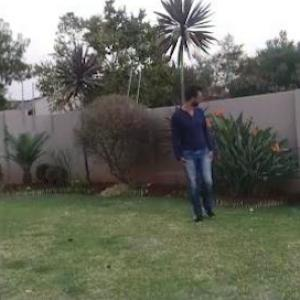follow: (170, 73, 222, 234)
